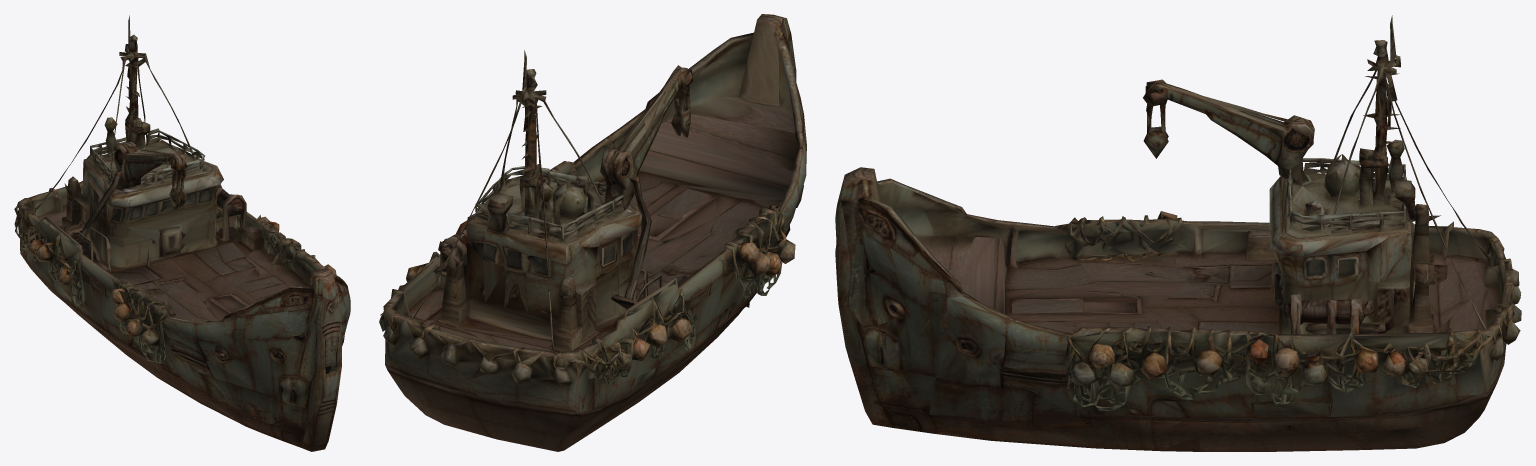
File: trawler.glb
3 renders of one model, left to right at view 1: azimuth 30°, elevation 25°; view 2: azimuth 150°, elevation 25°; view 3: azimuth 270°, elevation 25°, orthographic. The views are drawn at different scales.
Size of the model in its own units: 0.4764 by 0.6545 by 0.9988.
Materials: 1 (1 with a texture image).
